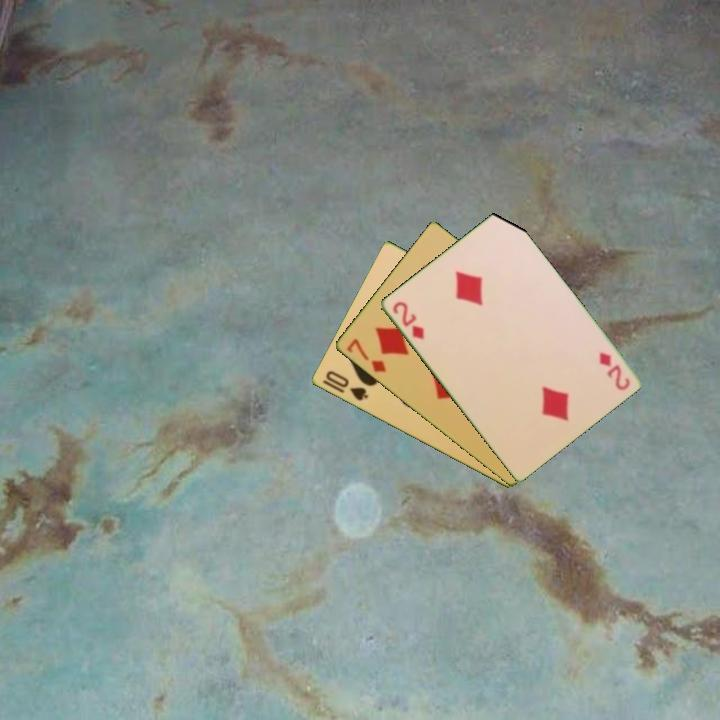10s: (322, 367, 371, 404)
2d: (388, 298, 427, 342), (595, 348, 633, 393)
7d: (343, 335, 389, 375)
